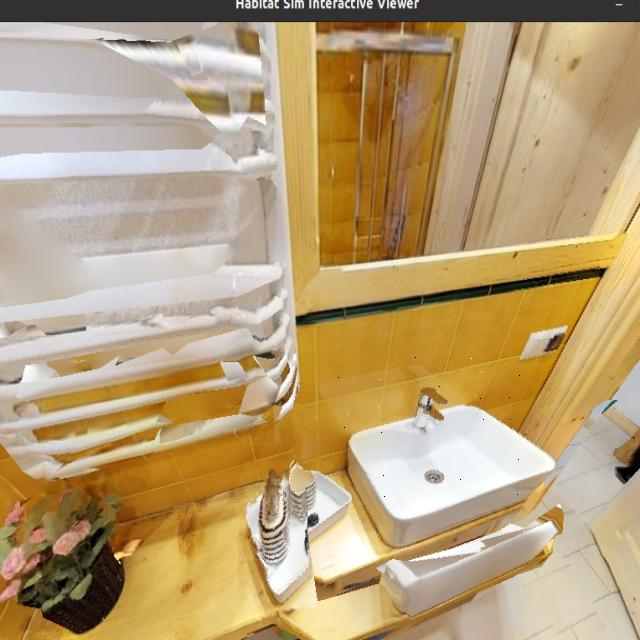sink: (331, 357, 534, 534)
